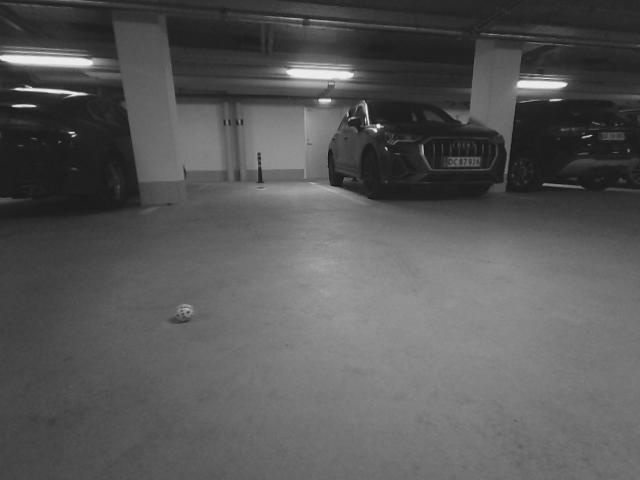dogtoy: (165, 296, 200, 331)
